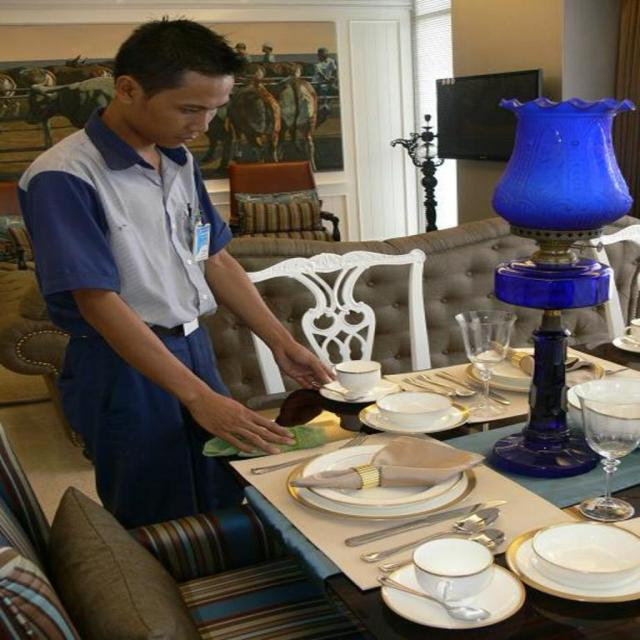non-organic waste: (288, 434, 480, 525), (515, 506, 640, 614), (361, 544, 522, 622)
